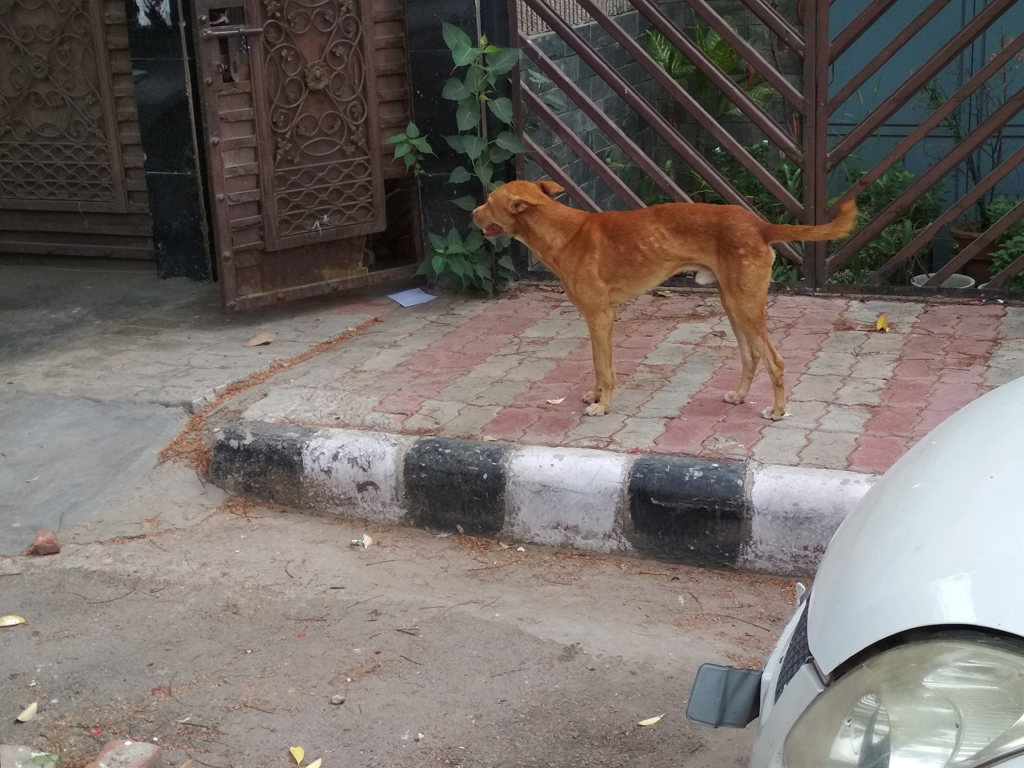dog: (470, 176, 858, 422)
